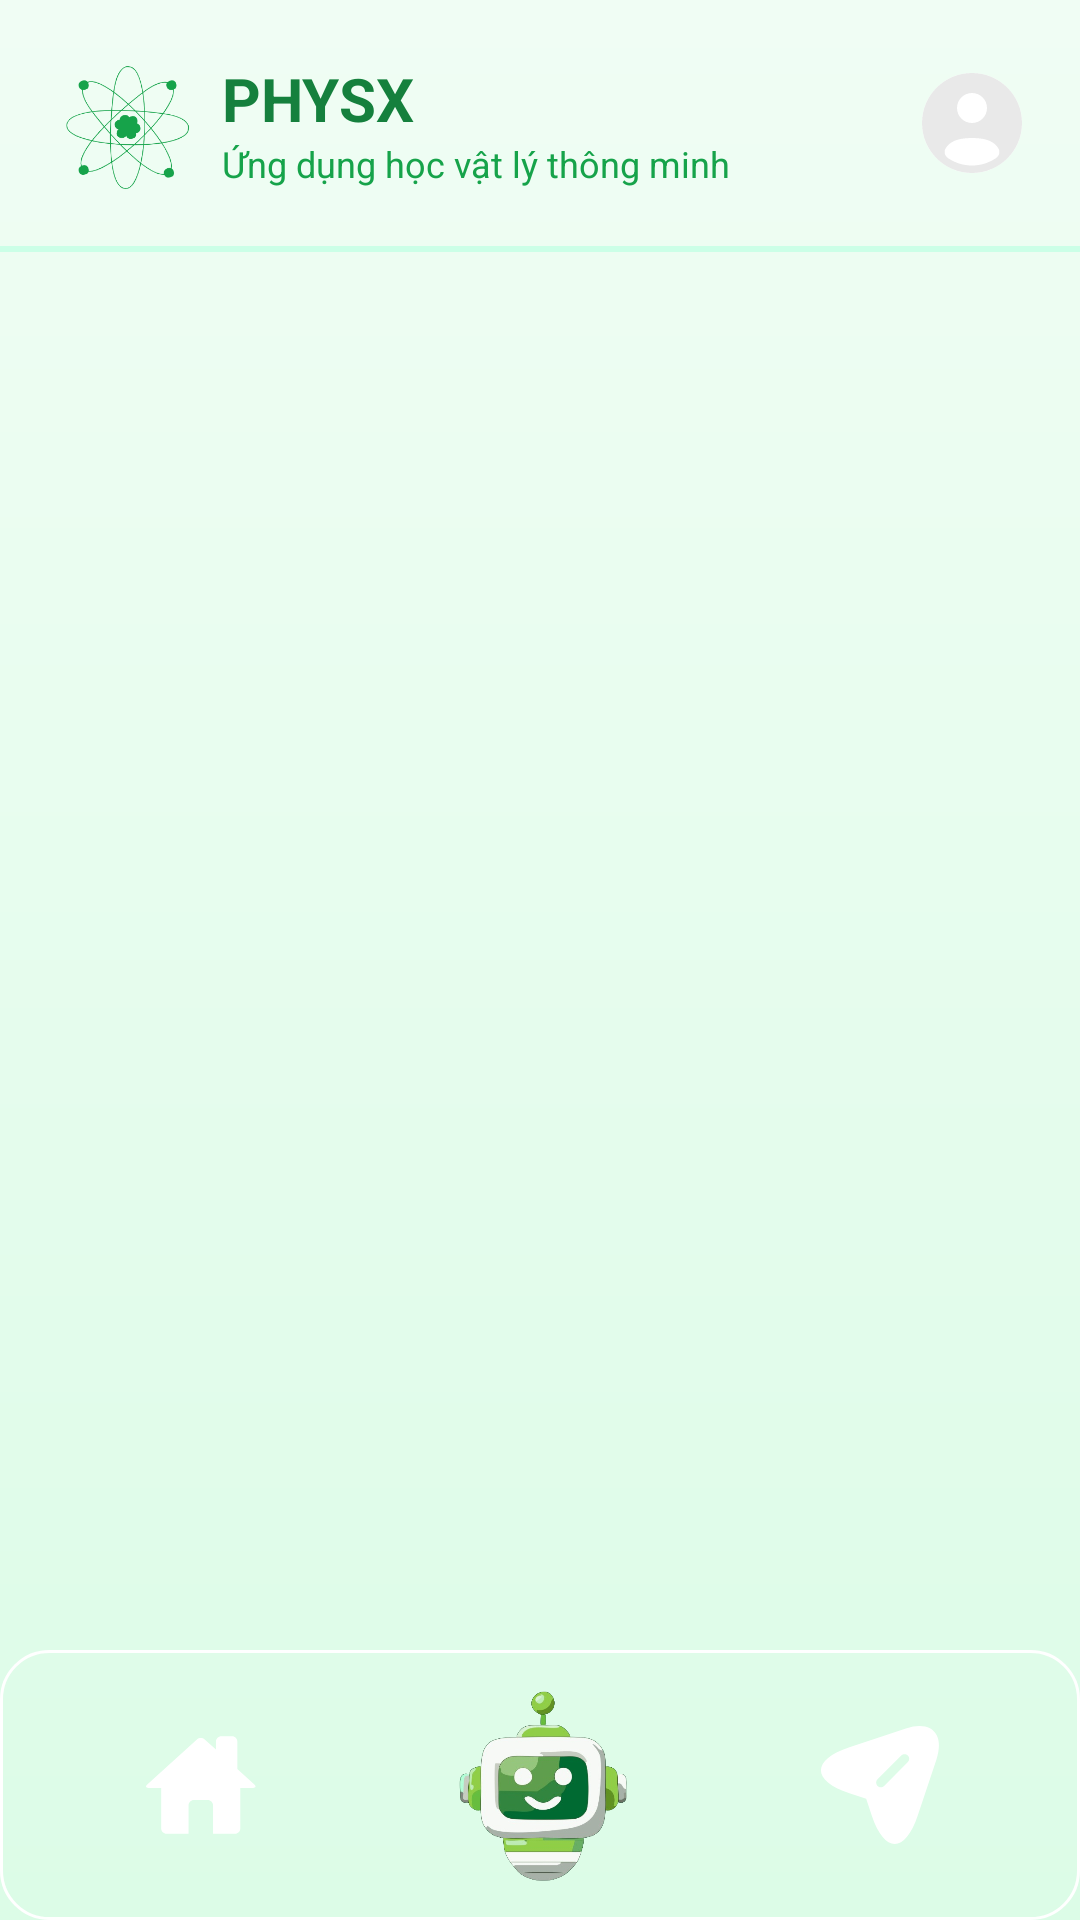

Named icons in this screenshot (1080 x 1920) and their centers, (x,y):
atom: (127,127)
home: (200,1785)
robot: (543,1786)
send: (880,1785)
